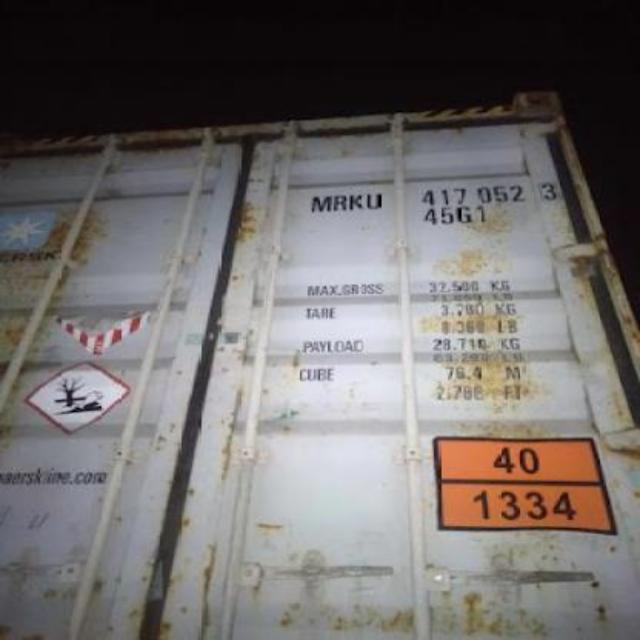0: (474, 182, 492, 205)
1: (438, 181, 452, 205)
2: (506, 181, 526, 205)
3: (532, 178, 562, 208)
4: (420, 182, 436, 208)
5: (494, 180, 508, 203)
7: (450, 182, 468, 208)
K: (348, 186, 362, 218)
M: (310, 190, 332, 218)
R: (330, 187, 348, 219)
U: (366, 182, 386, 215)
